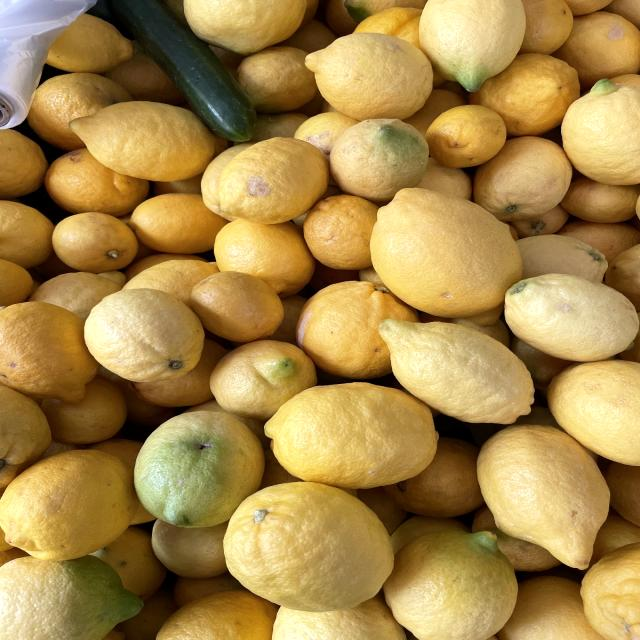lemon: (224, 478, 400, 614), (367, 175, 532, 314), (472, 415, 613, 572), (260, 372, 443, 488), (368, 310, 548, 425), (0, 443, 159, 567), (497, 255, 640, 368), (57, 94, 220, 186), (75, 281, 213, 383), (0, 298, 103, 409), (473, 128, 580, 223), (423, 98, 520, 176), (42, 205, 146, 275)
